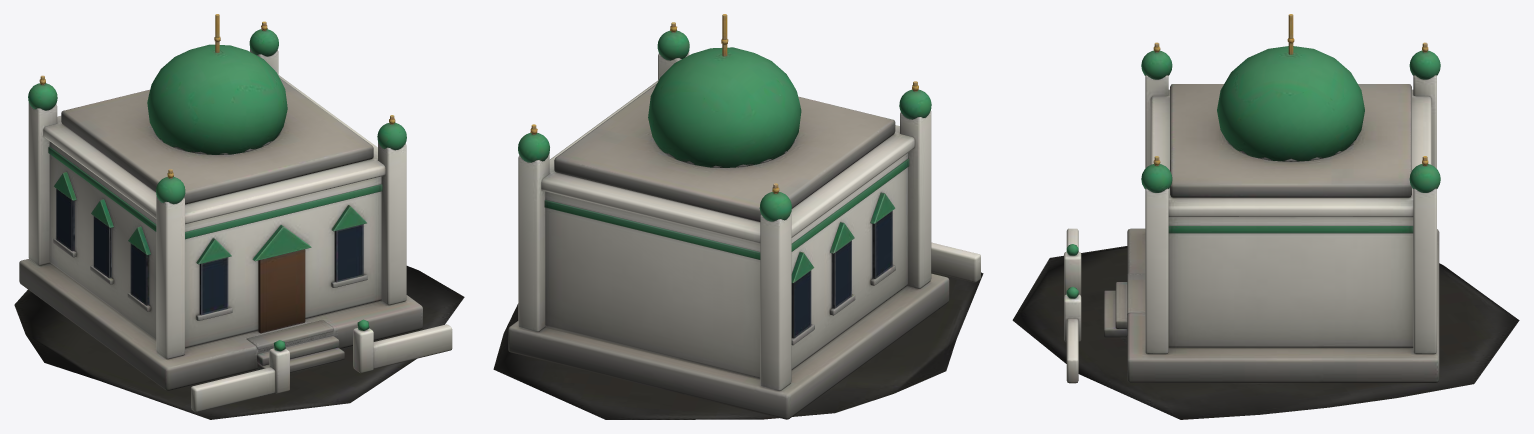
Rendered from mosque.glb.
The picture shows the model from 3 angles, left to right: view 1: azimuth 30°, elevation 25°; view 2: azimuth 150°, elevation 25°; view 3: azimuth 270°, elevation 25°; orthographic projection. The views are drawn at different scales.
Visible parts, largest first — view 1: mosque; view 2: mosque; view 3: mosque.
Boxes of the visible parts, <box> form: mosque: <box>14,14,464,419</box>; mosque: <box>493,14,983,419</box>; mosque: <box>1012,14,1519,419</box>.
Size of the model in its own units: 5.94 by 4.32 by 6.5.
1 material, 1 textured.
